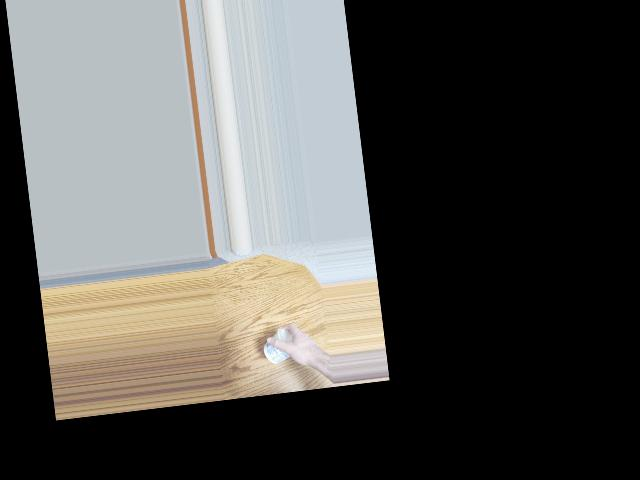cotage: (263, 327, 298, 365)
